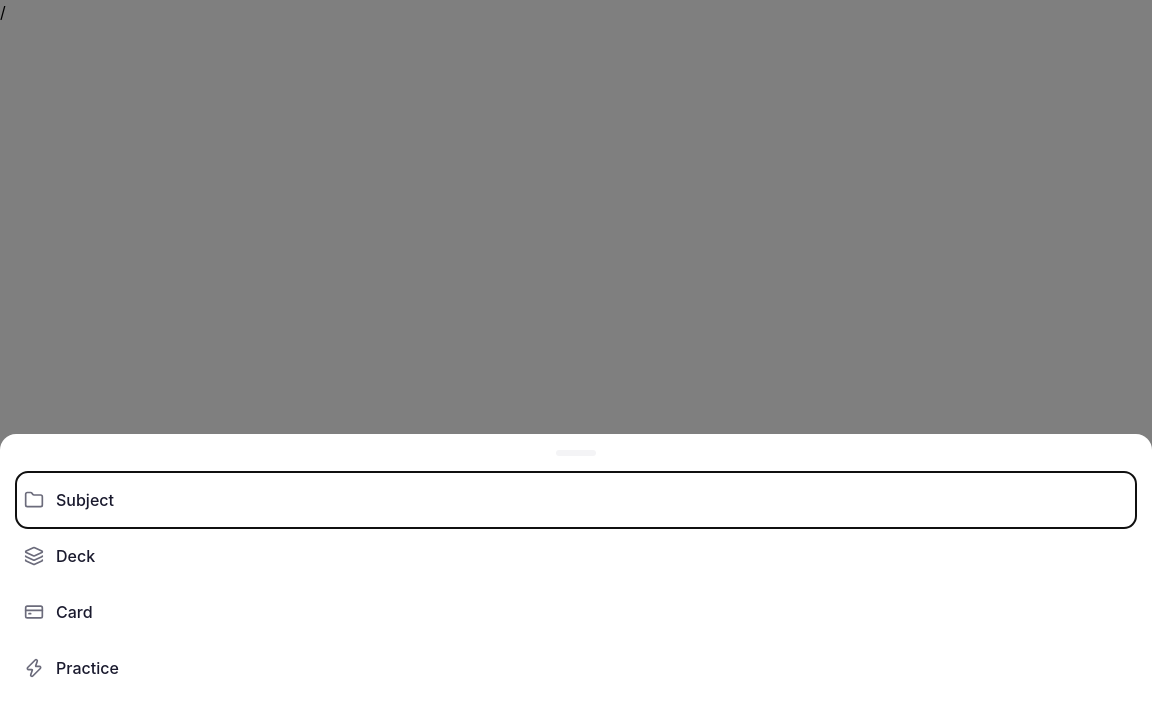
Test: CreateSheet › closes and navigates to /cards/new when Card is tapped and decks exist
Click the button "Card". click: (74, 612)
box: [16,584,1136,640]
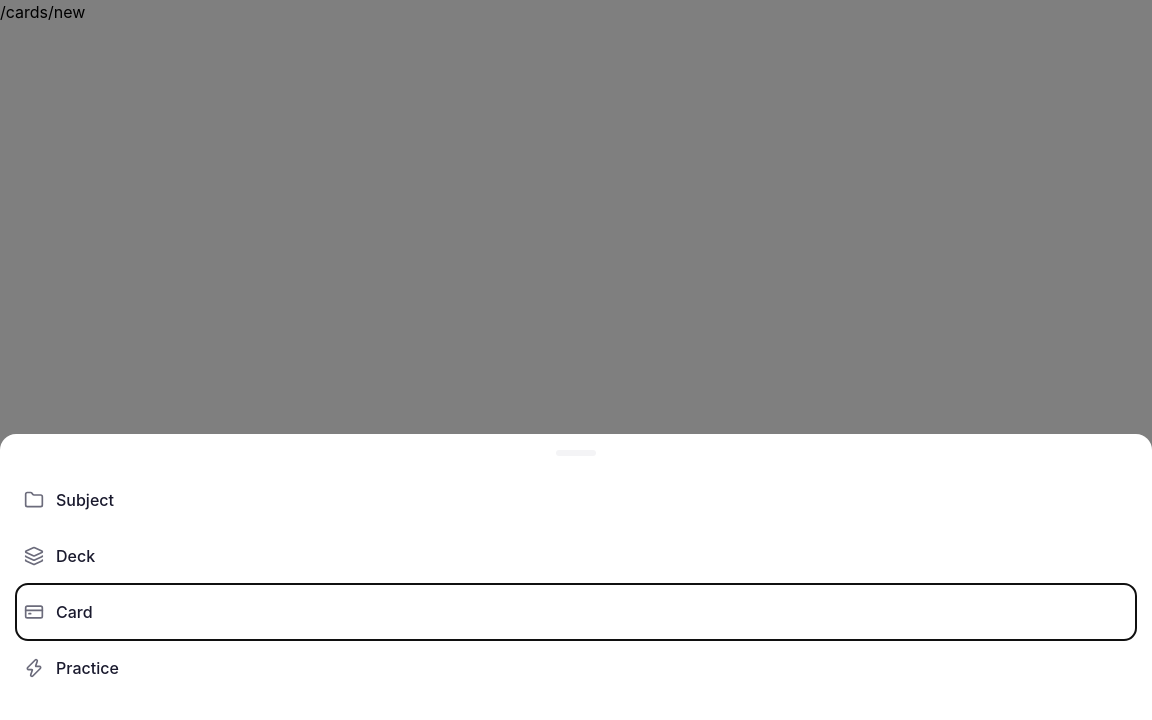
Now the text with test id "location" reads "/cards/new", box [0,2,85,22]
